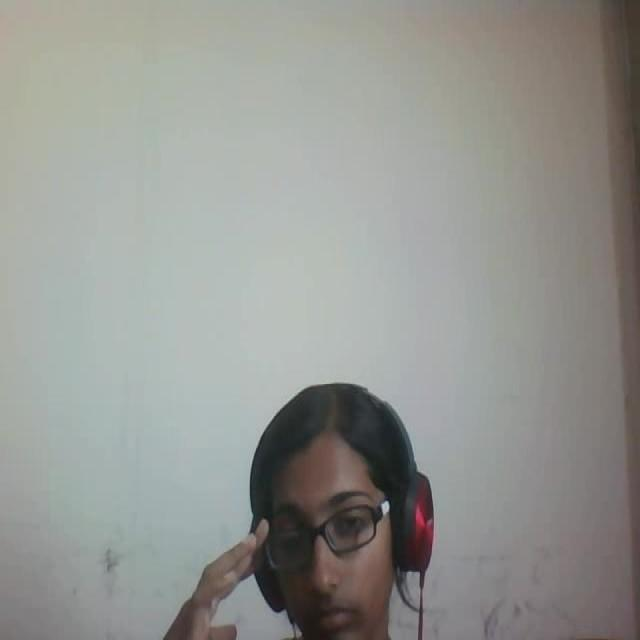Bored: (207, 334, 460, 640)
